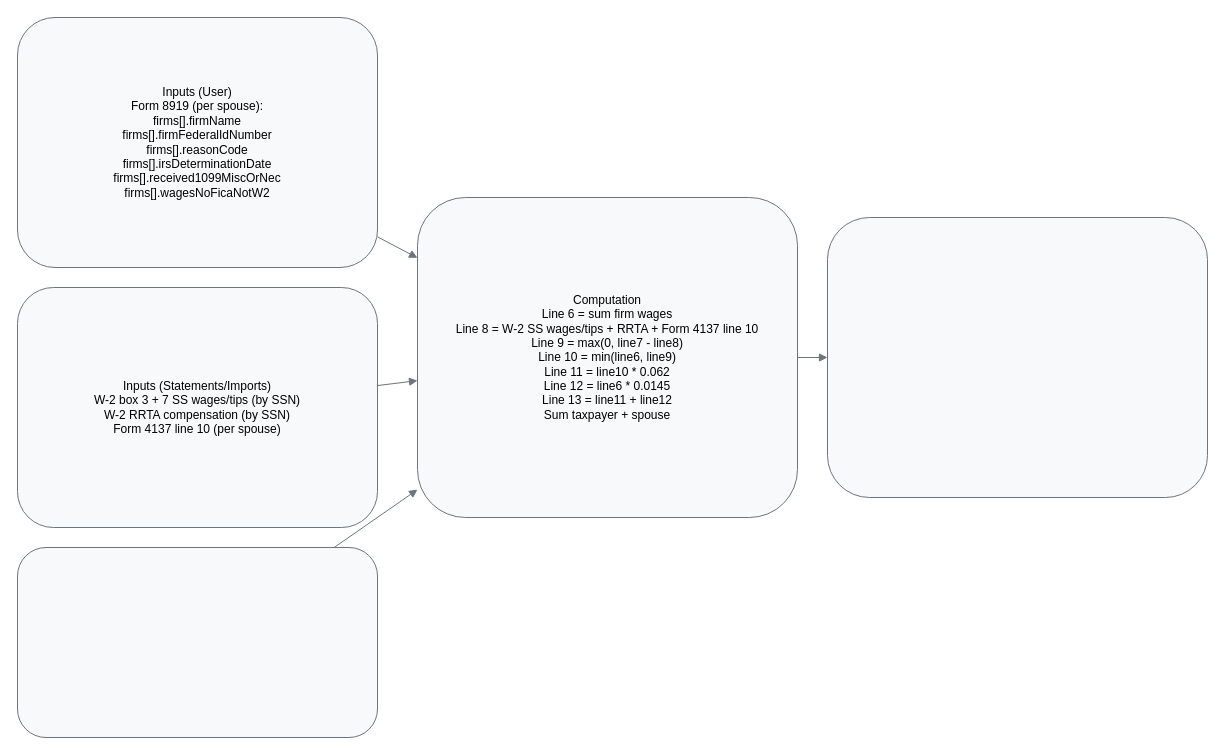
This 1225x755 diagram has some shape labels left out. Each missing label, with the centre of its shape:
"Outputs Form 1040 line 1g Form 8919 (taxpayer + spouse) Schedule 2 line 6" belongs at [1017,357].
"Reference/Derived Inputs Social Security wage base" belongs at [197,642].
